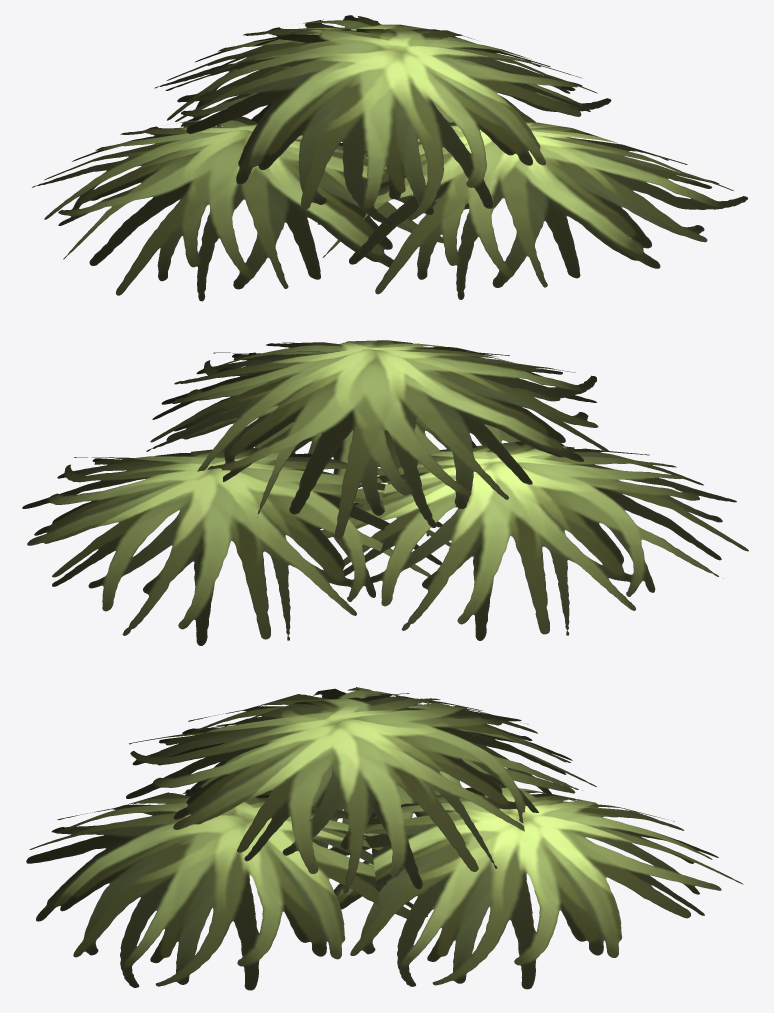
File: HP3_grass003.fbx
3 views of the same model, one above another, from view 1: azimuth 30°, elevation 25°; view 2: azimuth 150°, elevation 25°; view 3: azimuth 270°, elevation 25° (orthographic). The views are drawn at different scales.
Parts seen in each view (by area): view 1: HP3_grass003; view 2: HP3_grass003; view 3: HP3_grass003.
Part boxes in pixels (left/top/right/bottom): HP3_grass003: left=32, top=15, right=747, bottom=301; HP3_grass003: left=22, top=340, right=748, bottom=645; HP3_grass003: left=26, top=687, right=743, bottom=990.
Bounding box in the file's own units: 11.93 × 2.72 × 12.15.
